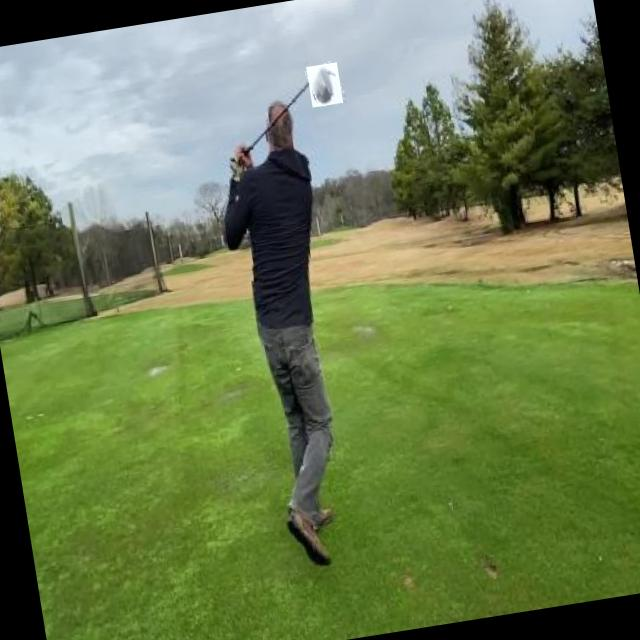club head: (306, 62, 344, 108)
